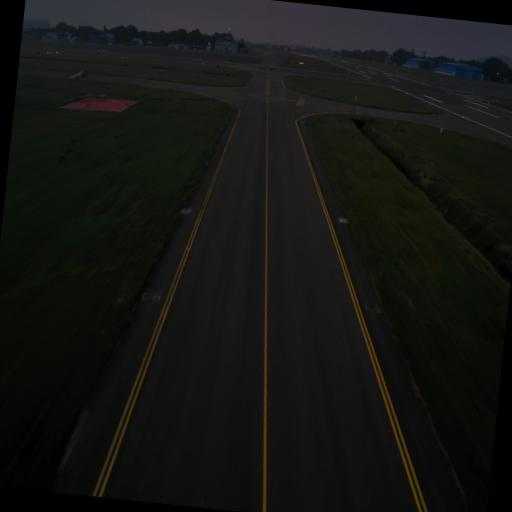on: (187, 204, 190, 210), (341, 216, 344, 220)
